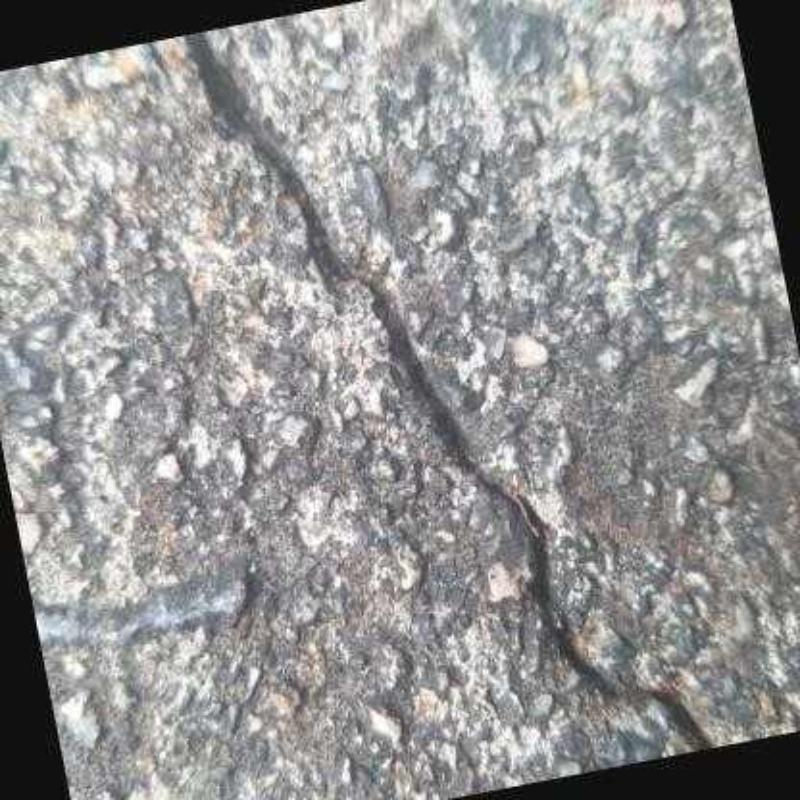pothole: (169, 29, 726, 751)
